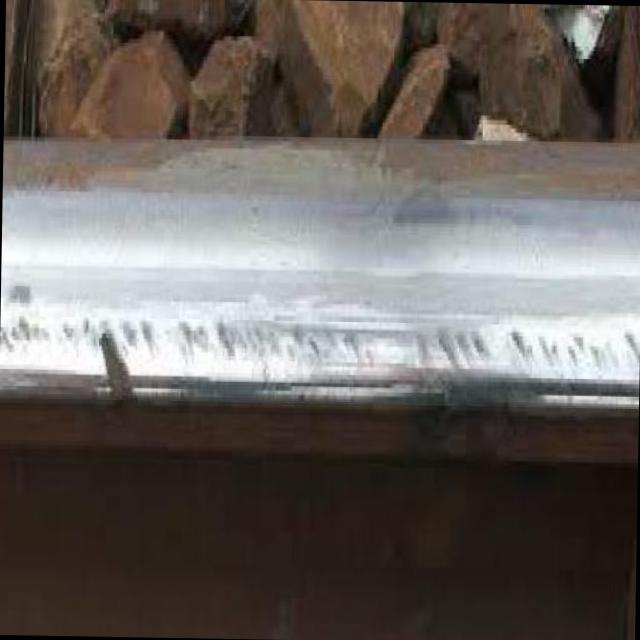defective: (0, 188, 640, 485)
